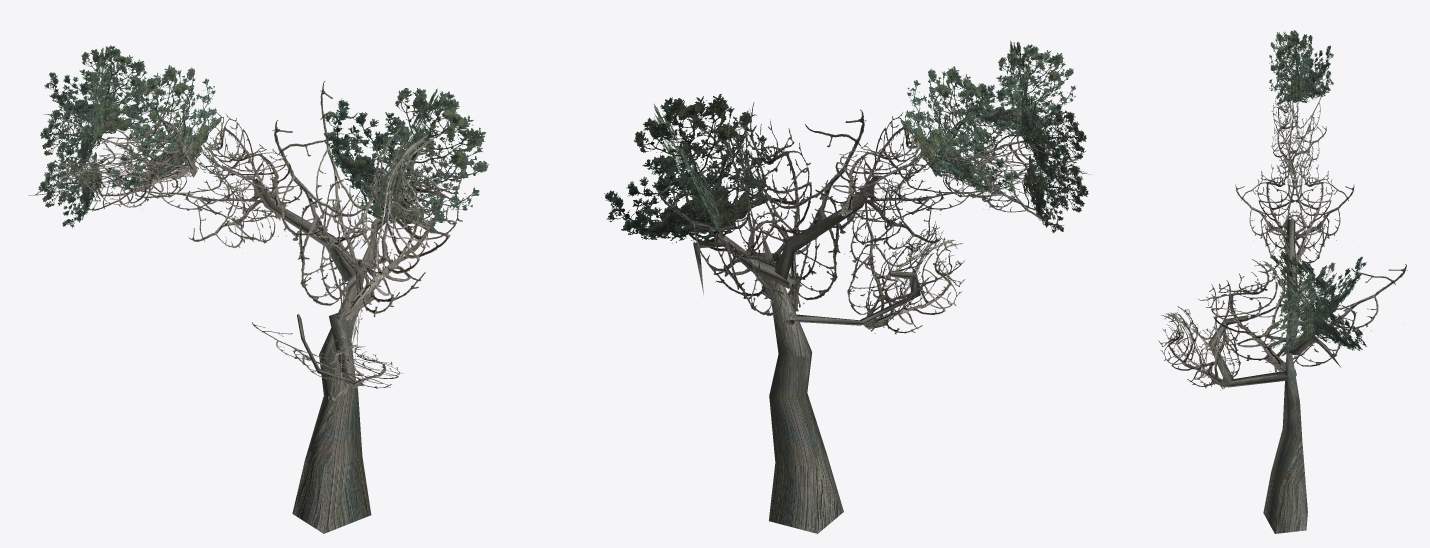
File: ever_torreypinetree_a1_l1.fbx
The picture shows the model from 3 angles, left to right: view 1: azimuth 30°, elevation 25°; view 2: azimuth 150°, elevation 25°; view 3: azimuth 270°, elevation 25°; orthographic projection. The views are drawn at different scales.
Visible parts, largest first — view 1: mesh_node; view 2: mesh_node; view 3: mesh_node.
Part boxes in pixels (left/top/right/bottom): mesh_node: left=28, top=45, right=490, bottom=533; mesh_node: left=604, top=40, right=1091, bottom=533; mesh_node: left=1158, top=30, right=1407, bottom=533.
Bounding box in the file's own units: 6.44 × 6.75 × 4.16.
